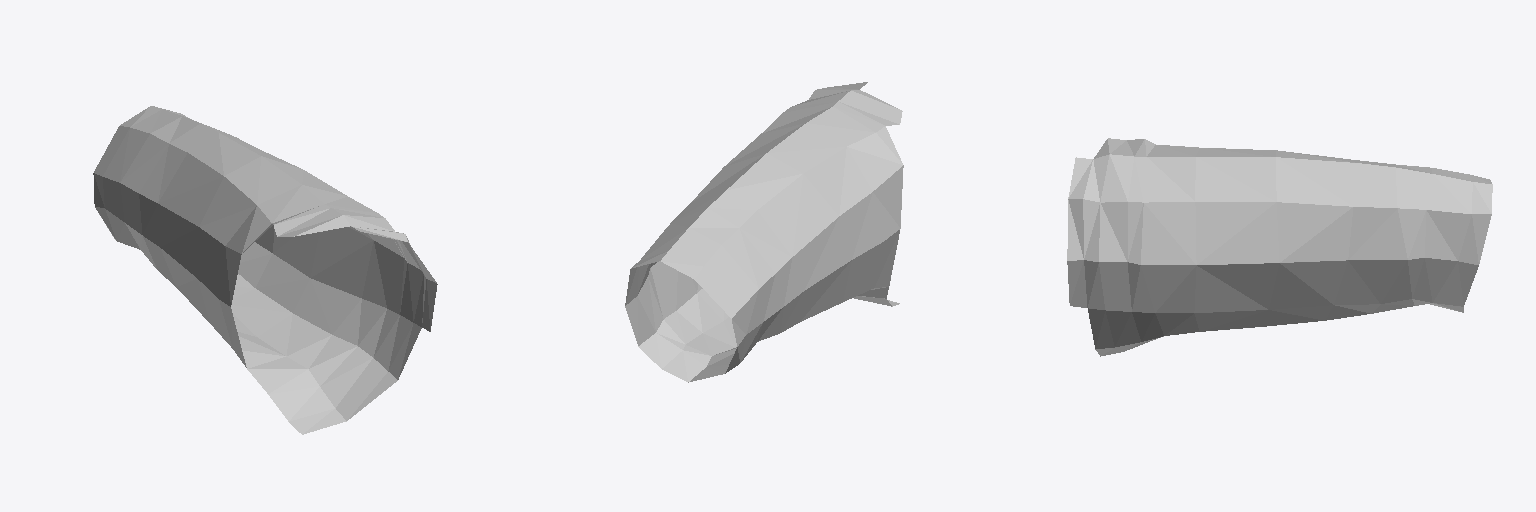
Rendered from r_upperleg.obj.
The picture shows the model from 3 angles: view 1: azimuth 30°, elevation 25°; view 2: azimuth 150°, elevation 25°; view 3: azimuth 270°, elevation 25°; orthographic projection.
Parts seen in each view (by area): view 1: zoey_color_bmp_013_zoey_color_bmp.013; view 2: zoey_color_bmp_013_zoey_color_bmp.013; view 3: zoey_color_bmp_013_zoey_color_bmp.013.
Boxes of the visible parts, <box> form: zoey_color_bmp_013_zoey_color_bmp.013: <box>93,106,437,434</box>; zoey_color_bmp_013_zoey_color_bmp.013: <box>625,82,903,382</box>; zoey_color_bmp_013_zoey_color_bmp.013: <box>1067,138,1492,356</box>.
Size of the model in its own units: 0.1303 by 0.1624 by 0.3045.